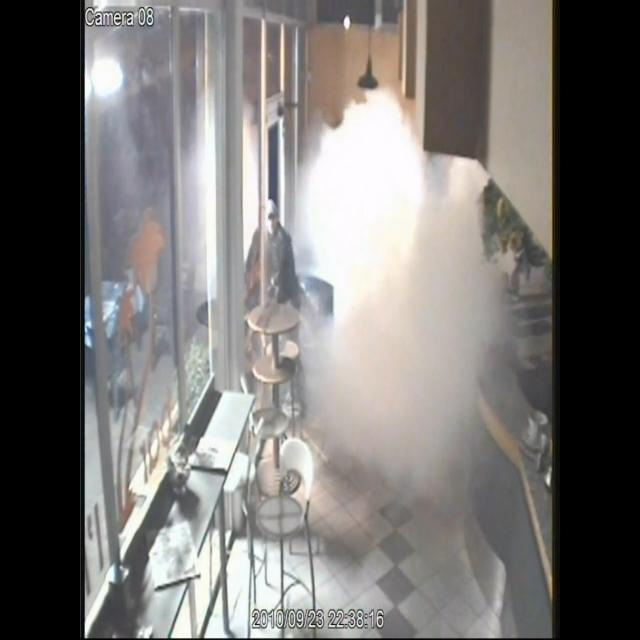Smoke: (302, 92, 489, 507)
